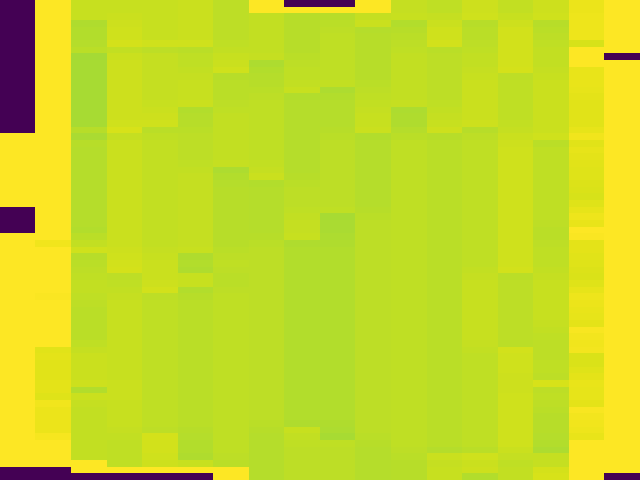cylinder: (2, 4, 640, 480)
